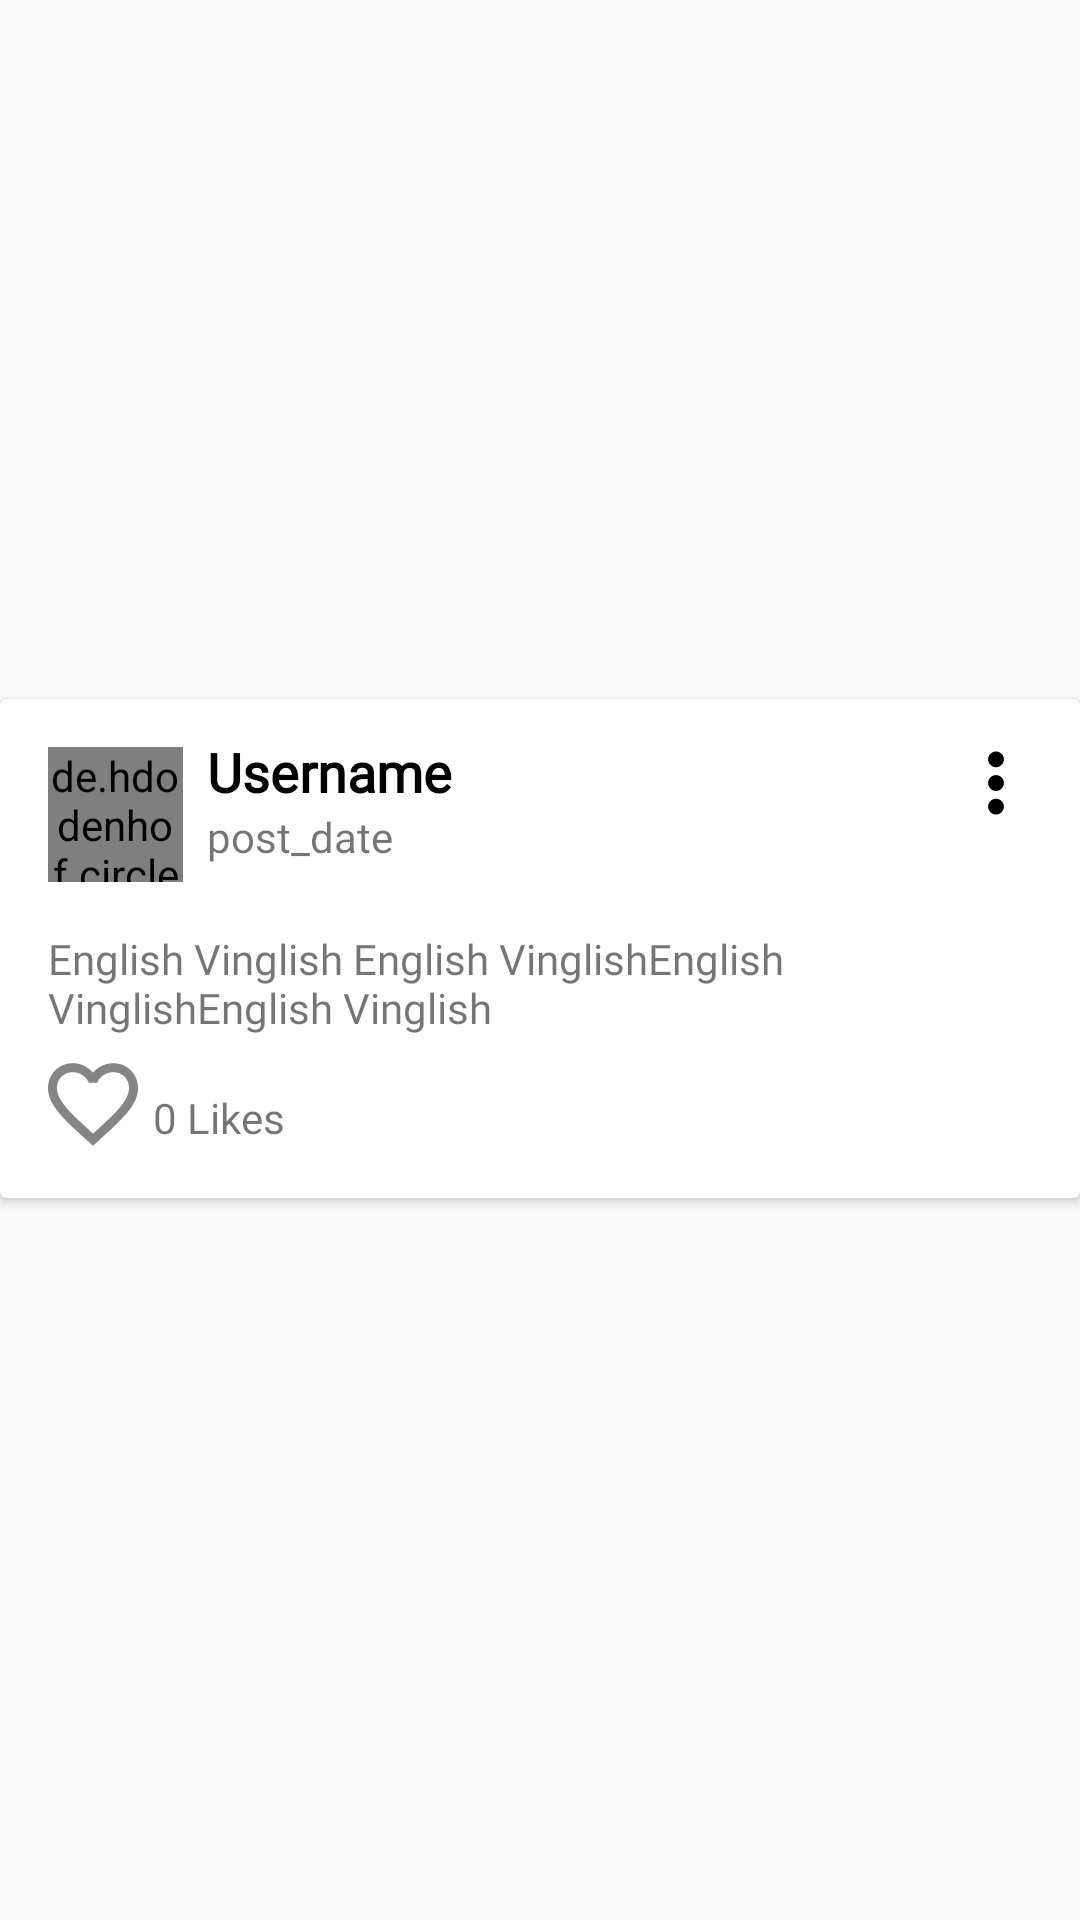

Named icons in this screenshot (1080w x 1920h) and their bounding boxes, (x1, y1, x2, y2):
post menu: (988, 751, 1004, 815)
